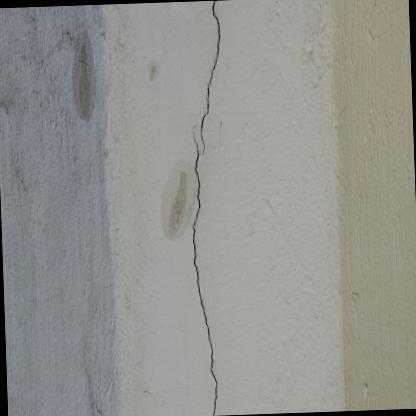crack: (192, 132, 217, 416), (200, 0, 220, 157)
